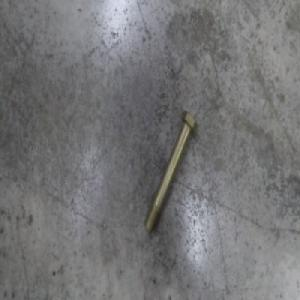Bolt: (142, 108, 197, 235)
